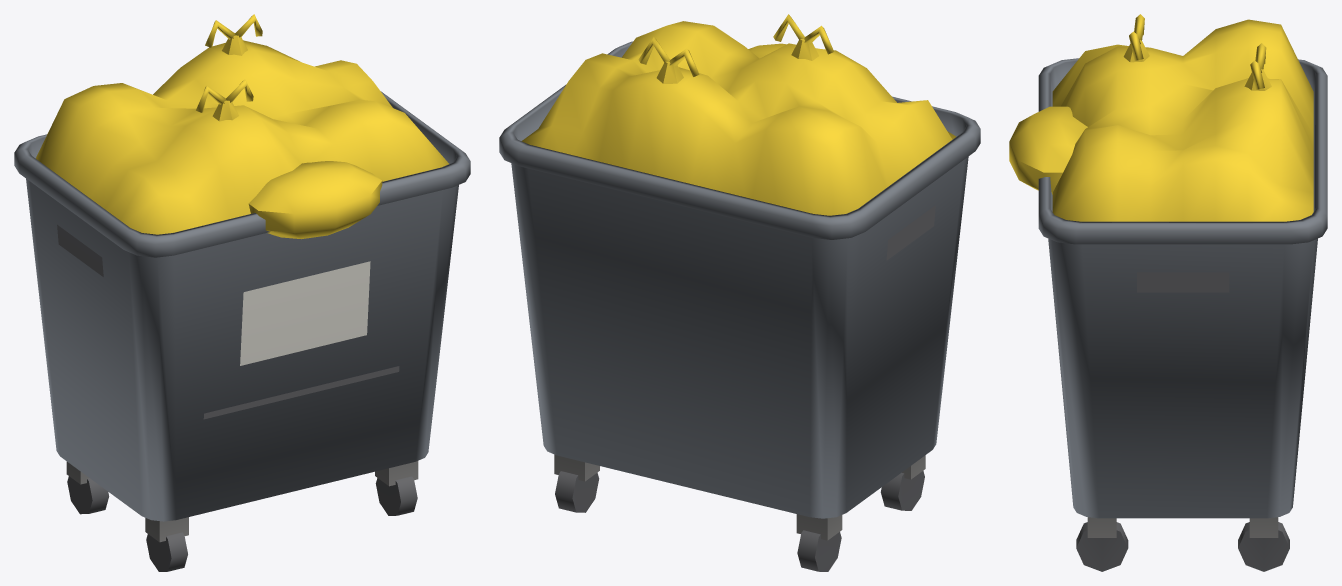
File: bag_bin.glb
3 renders of one model, left to right at view 1: azimuth 30°, elevation 25°; view 2: azimuth 150°, elevation 25°; view 3: azimuth 270°, elevation 25°, orthographic. The views are drawn at different scales.
Visible parts, largest first — view 1: showroom_bag_bin; view 2: showroom_bag_bin; view 3: showroom_bag_bin.
Part boxes in pixels (box(x1,y1,x2,y2)): showroom_bag_bin: box(14, 14, 470, 571); showroom_bag_bin: box(499, 14, 980, 571); showroom_bag_bin: box(1009, 14, 1327, 571).
Bounding box in the file's own units: 0.7 × 0.904 × 0.5506.
